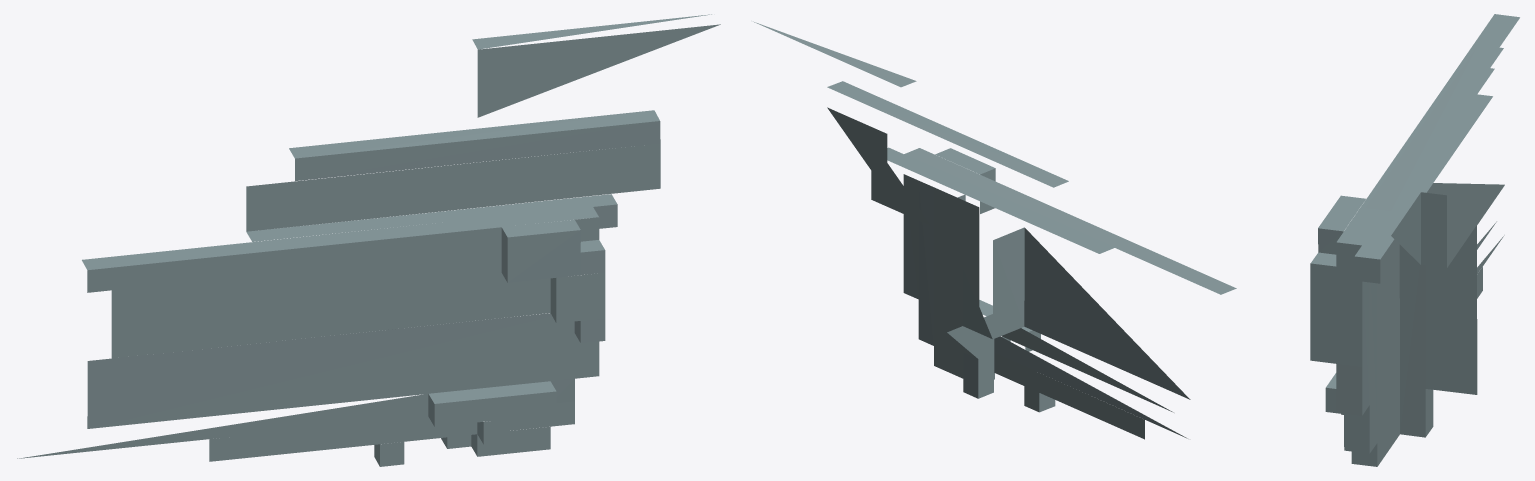
The picture shows the model from 3 angles, left to right: view 1: azimuth 30°, elevation 25°; view 2: azimuth 150°, elevation 25°; view 3: azimuth 270°, elevation 25°; orthographic projection. The views are drawn at different scales.
Parts seen in each view (by area): view 1: measured-industrial; view 2: measured-industrial; view 3: measured-industrial.
Boxes of the visible parts, <box> form: measured-industrial: <box>17,14,720,466</box>; measured-industrial: <box>753,21,1236,439</box>; measured-industrial: <box>1310,14,1519,466</box>.
Size of the model in its own units: 30.18 by 16.01 by 7.82.
